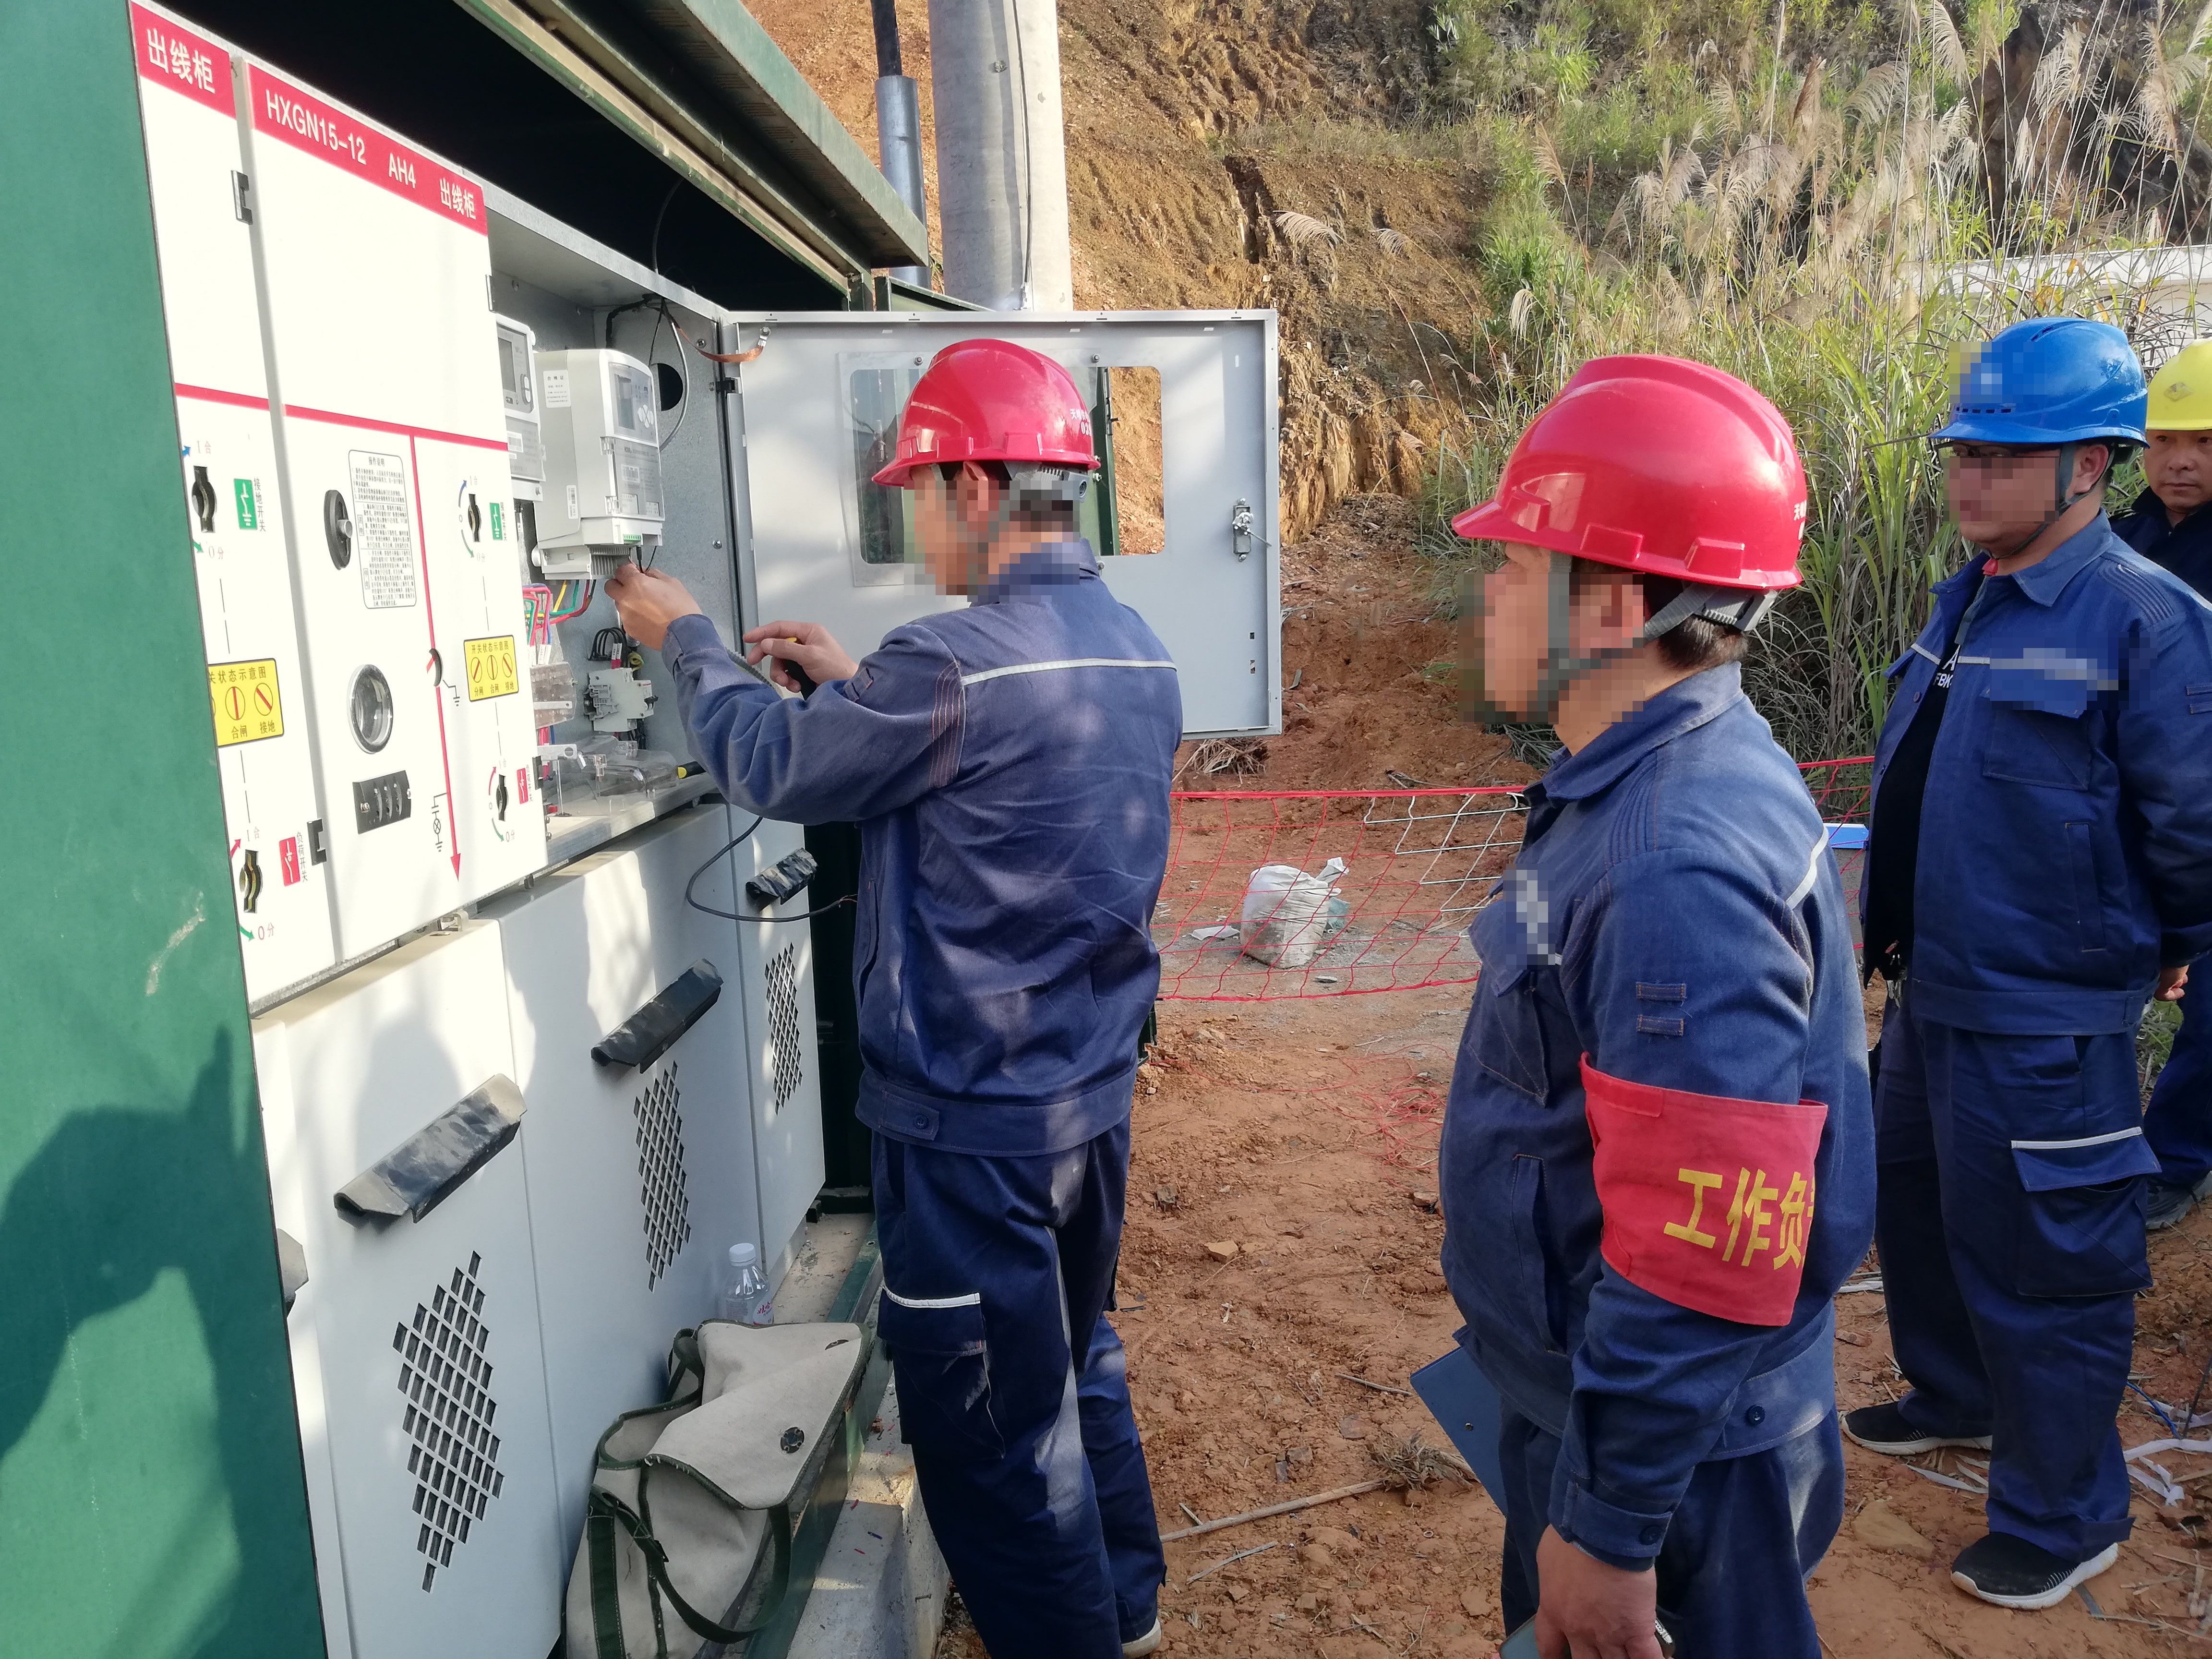badge: (1587, 1075, 1834, 1332)
downsuit: (868, 1154, 1171, 1659), (1887, 1043, 2156, 1536), (1495, 1479, 1857, 1659)
halt: (1450, 357, 1810, 691), (1925, 312, 2159, 557), (873, 342, 1109, 581), (2145, 333, 2212, 525)
hand: (1527, 1550, 1667, 1659), (749, 604, 862, 715), (597, 555, 705, 669)
inear: (1493, 555, 1727, 749), (912, 454, 1026, 581), (2025, 437, 2123, 560)
person: (608, 339, 1204, 1659), (1415, 338, 1866, 1655), (1863, 309, 2212, 1620)
upsuit: (1421, 662, 1858, 1489), (690, 537, 1194, 1122), (1863, 520, 2211, 1012)
wrongsuit: (1861, 553, 2003, 1000)
